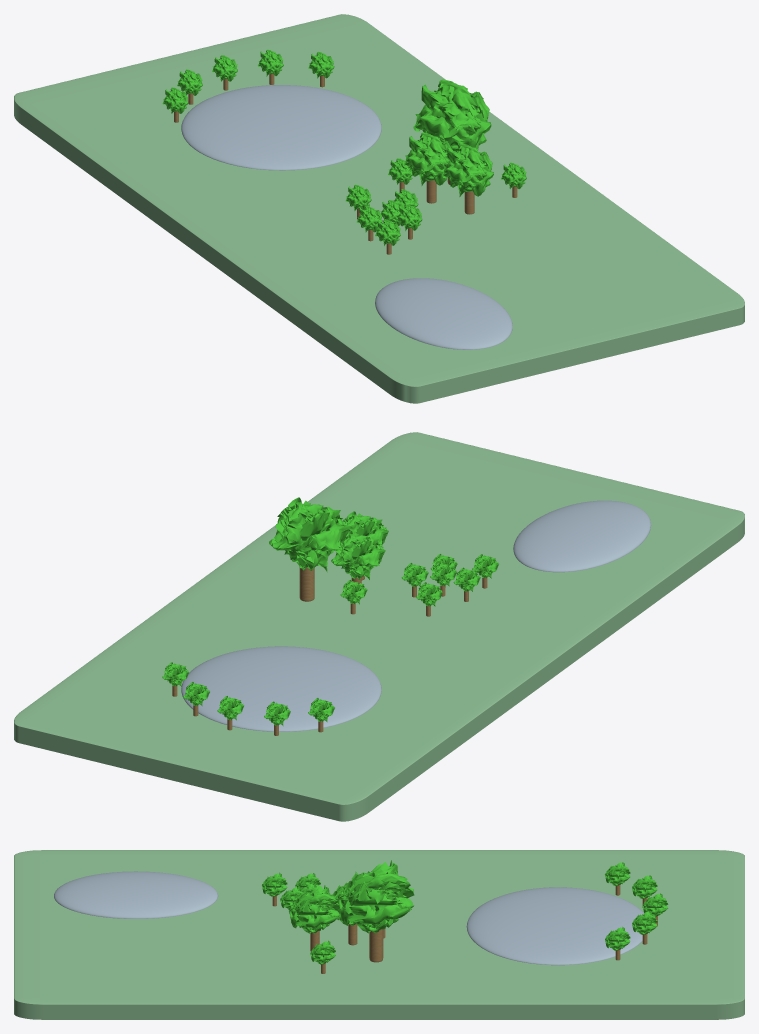
The model's file is park3.glb.
3 views of the same model, one above another, from view 1: azimuth 30°, elevation 25°; view 2: azimuth 150°, elevation 25°; view 3: azimuth 270°, elevation 25° (orthographic). The views are drawn at different scales.
Visible parts, largest first — view 1: land, water, water1, Torus 3 (×2), Torus, Torus 2; view 2: land, water, water1, Torus 3, Torus 2, Torus, Torus 1; view 3: land, water, water1, Torus 3 (×2), Torus 2 (×2), Torus 1 (×2), Torus (×2), stump.
Boxes of the visible parts, x1,y1,x2,y2 form: land: (14, 14, 744, 403); water: (181, 85, 381, 170); water1: (375, 278, 512, 349); Torus 3 (×2): (413, 104, 491, 196); Torus: (421, 84, 482, 137); Torus 2: (434, 79, 491, 151); land: (14, 432, 744, 821); water: (181, 646, 381, 731); water1: (513, 500, 650, 572); Torus 3: (269, 518, 350, 558); Torus 2: (280, 500, 333, 571); Torus: (284, 507, 342, 565); Torus 1: (275, 497, 331, 570); land: (14, 850, 744, 1019); water: (466, 887, 643, 965); water1: (54, 871, 217, 918); Torus 3 (×2): (289, 871, 413, 928); Torus 2 (×2): (292, 872, 414, 929); Torus 1 (×2): (289, 881, 403, 918); Torus (×2): (289, 860, 398, 933); stump: (369, 929, 383, 962).
Bounding box in the file's own units: 2 × 0.6377 × 4.
Materials: 83 (16 with a texture image).
